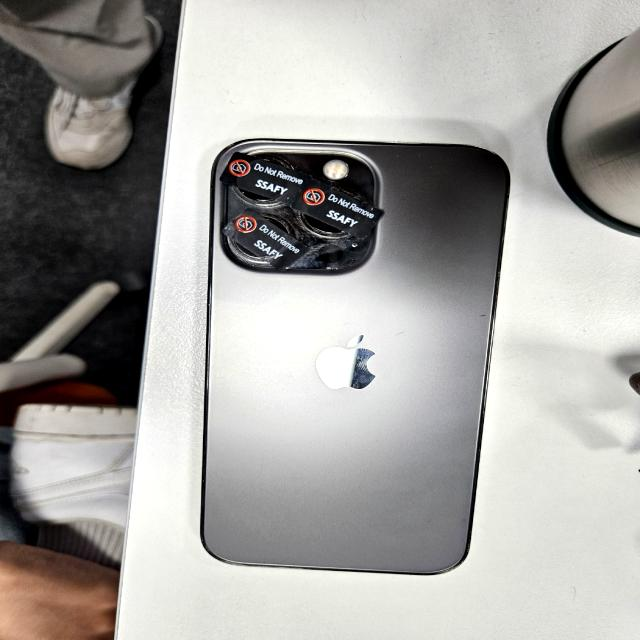phone: (199, 135, 511, 578)
sticker: (297, 180, 386, 240), (223, 152, 303, 204), (228, 218, 304, 268)
